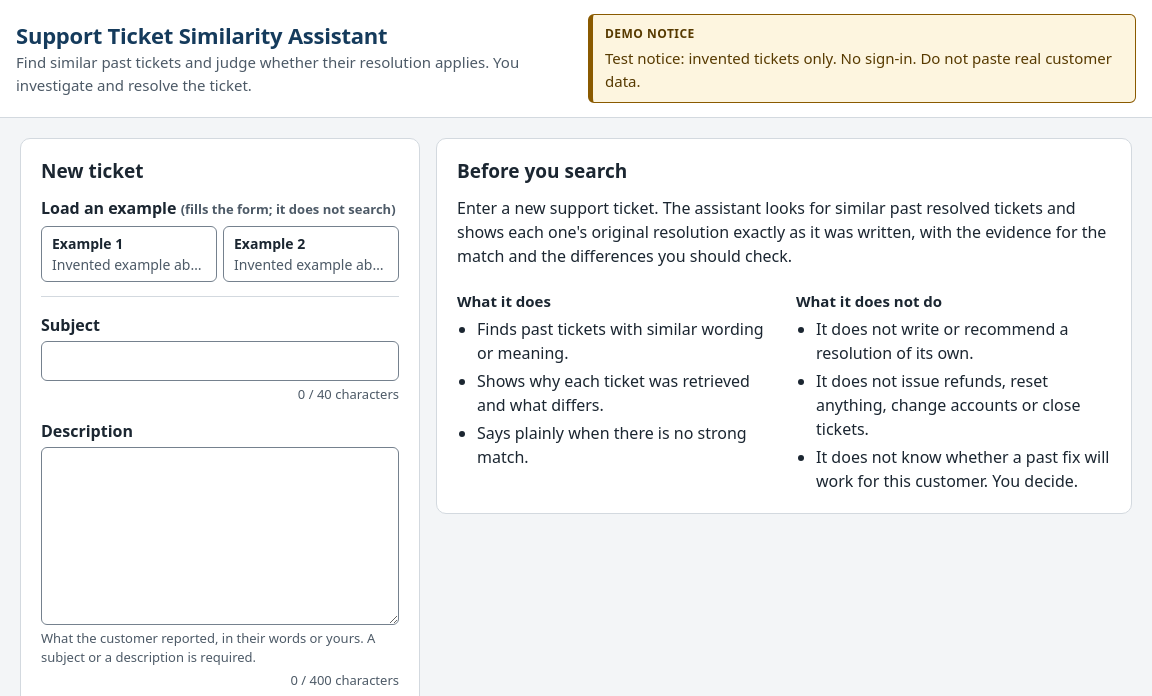
Test: search requests › stops a search that takes too long and offers Retry
The image size is (1152, 696).
Type "Slow problem" into the field labelled "Subject" at [220, 361], box [41,341,399,381]
(page scrolled)
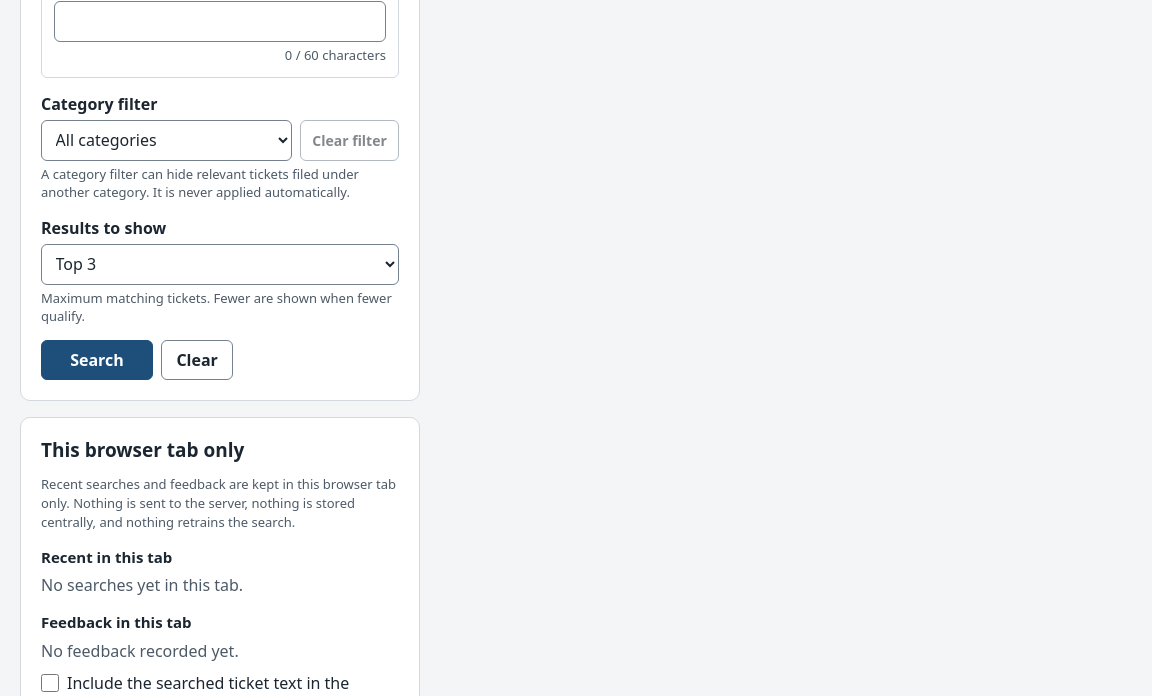
Click the button "Search" at [97, 360], box [41,340,153,380]
Wait 15000 ms
(page scrolled)
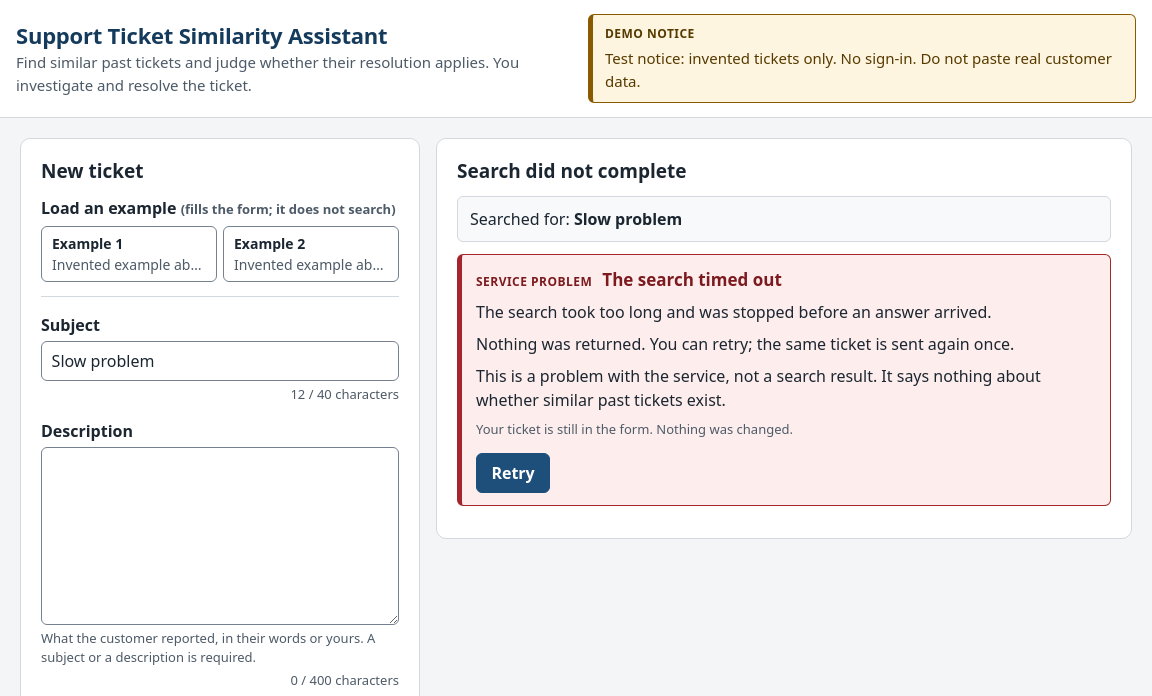
Now the text "The search timed out" is shown, box [602,267,782,292]
Now the button "Retry" is shown, box [476,453,550,493]
